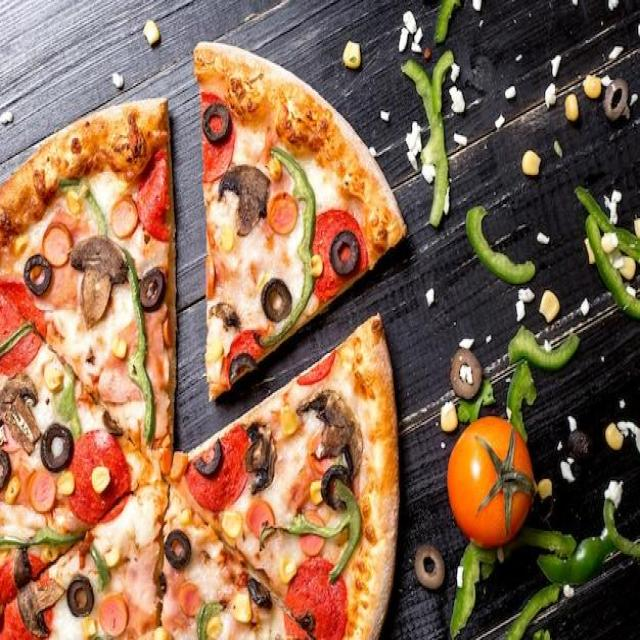olive: (40, 423, 74, 473), (321, 467, 354, 511), (330, 230, 360, 276), (262, 278, 291, 322), (203, 103, 232, 145), (24, 254, 52, 296), (139, 268, 165, 312), (66, 578, 94, 618), (194, 438, 222, 476), (165, 530, 192, 569), (230, 352, 258, 382), (0, 449, 11, 491)
pepperoni: (66, 429, 130, 525), (184, 424, 248, 511), (284, 556, 346, 640), (313, 210, 368, 302), (0, 553, 52, 640), (0, 281, 45, 377), (136, 149, 170, 242), (201, 91, 235, 182)
pizza: (0, 93, 399, 640), (194, 41, 408, 406)
